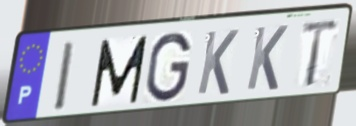G: (143, 30, 193, 105)
I: (52, 39, 77, 114)
K: (244, 23, 291, 93), (195, 27, 241, 97)
M: (89, 33, 151, 110)
T: (298, 17, 342, 90)
